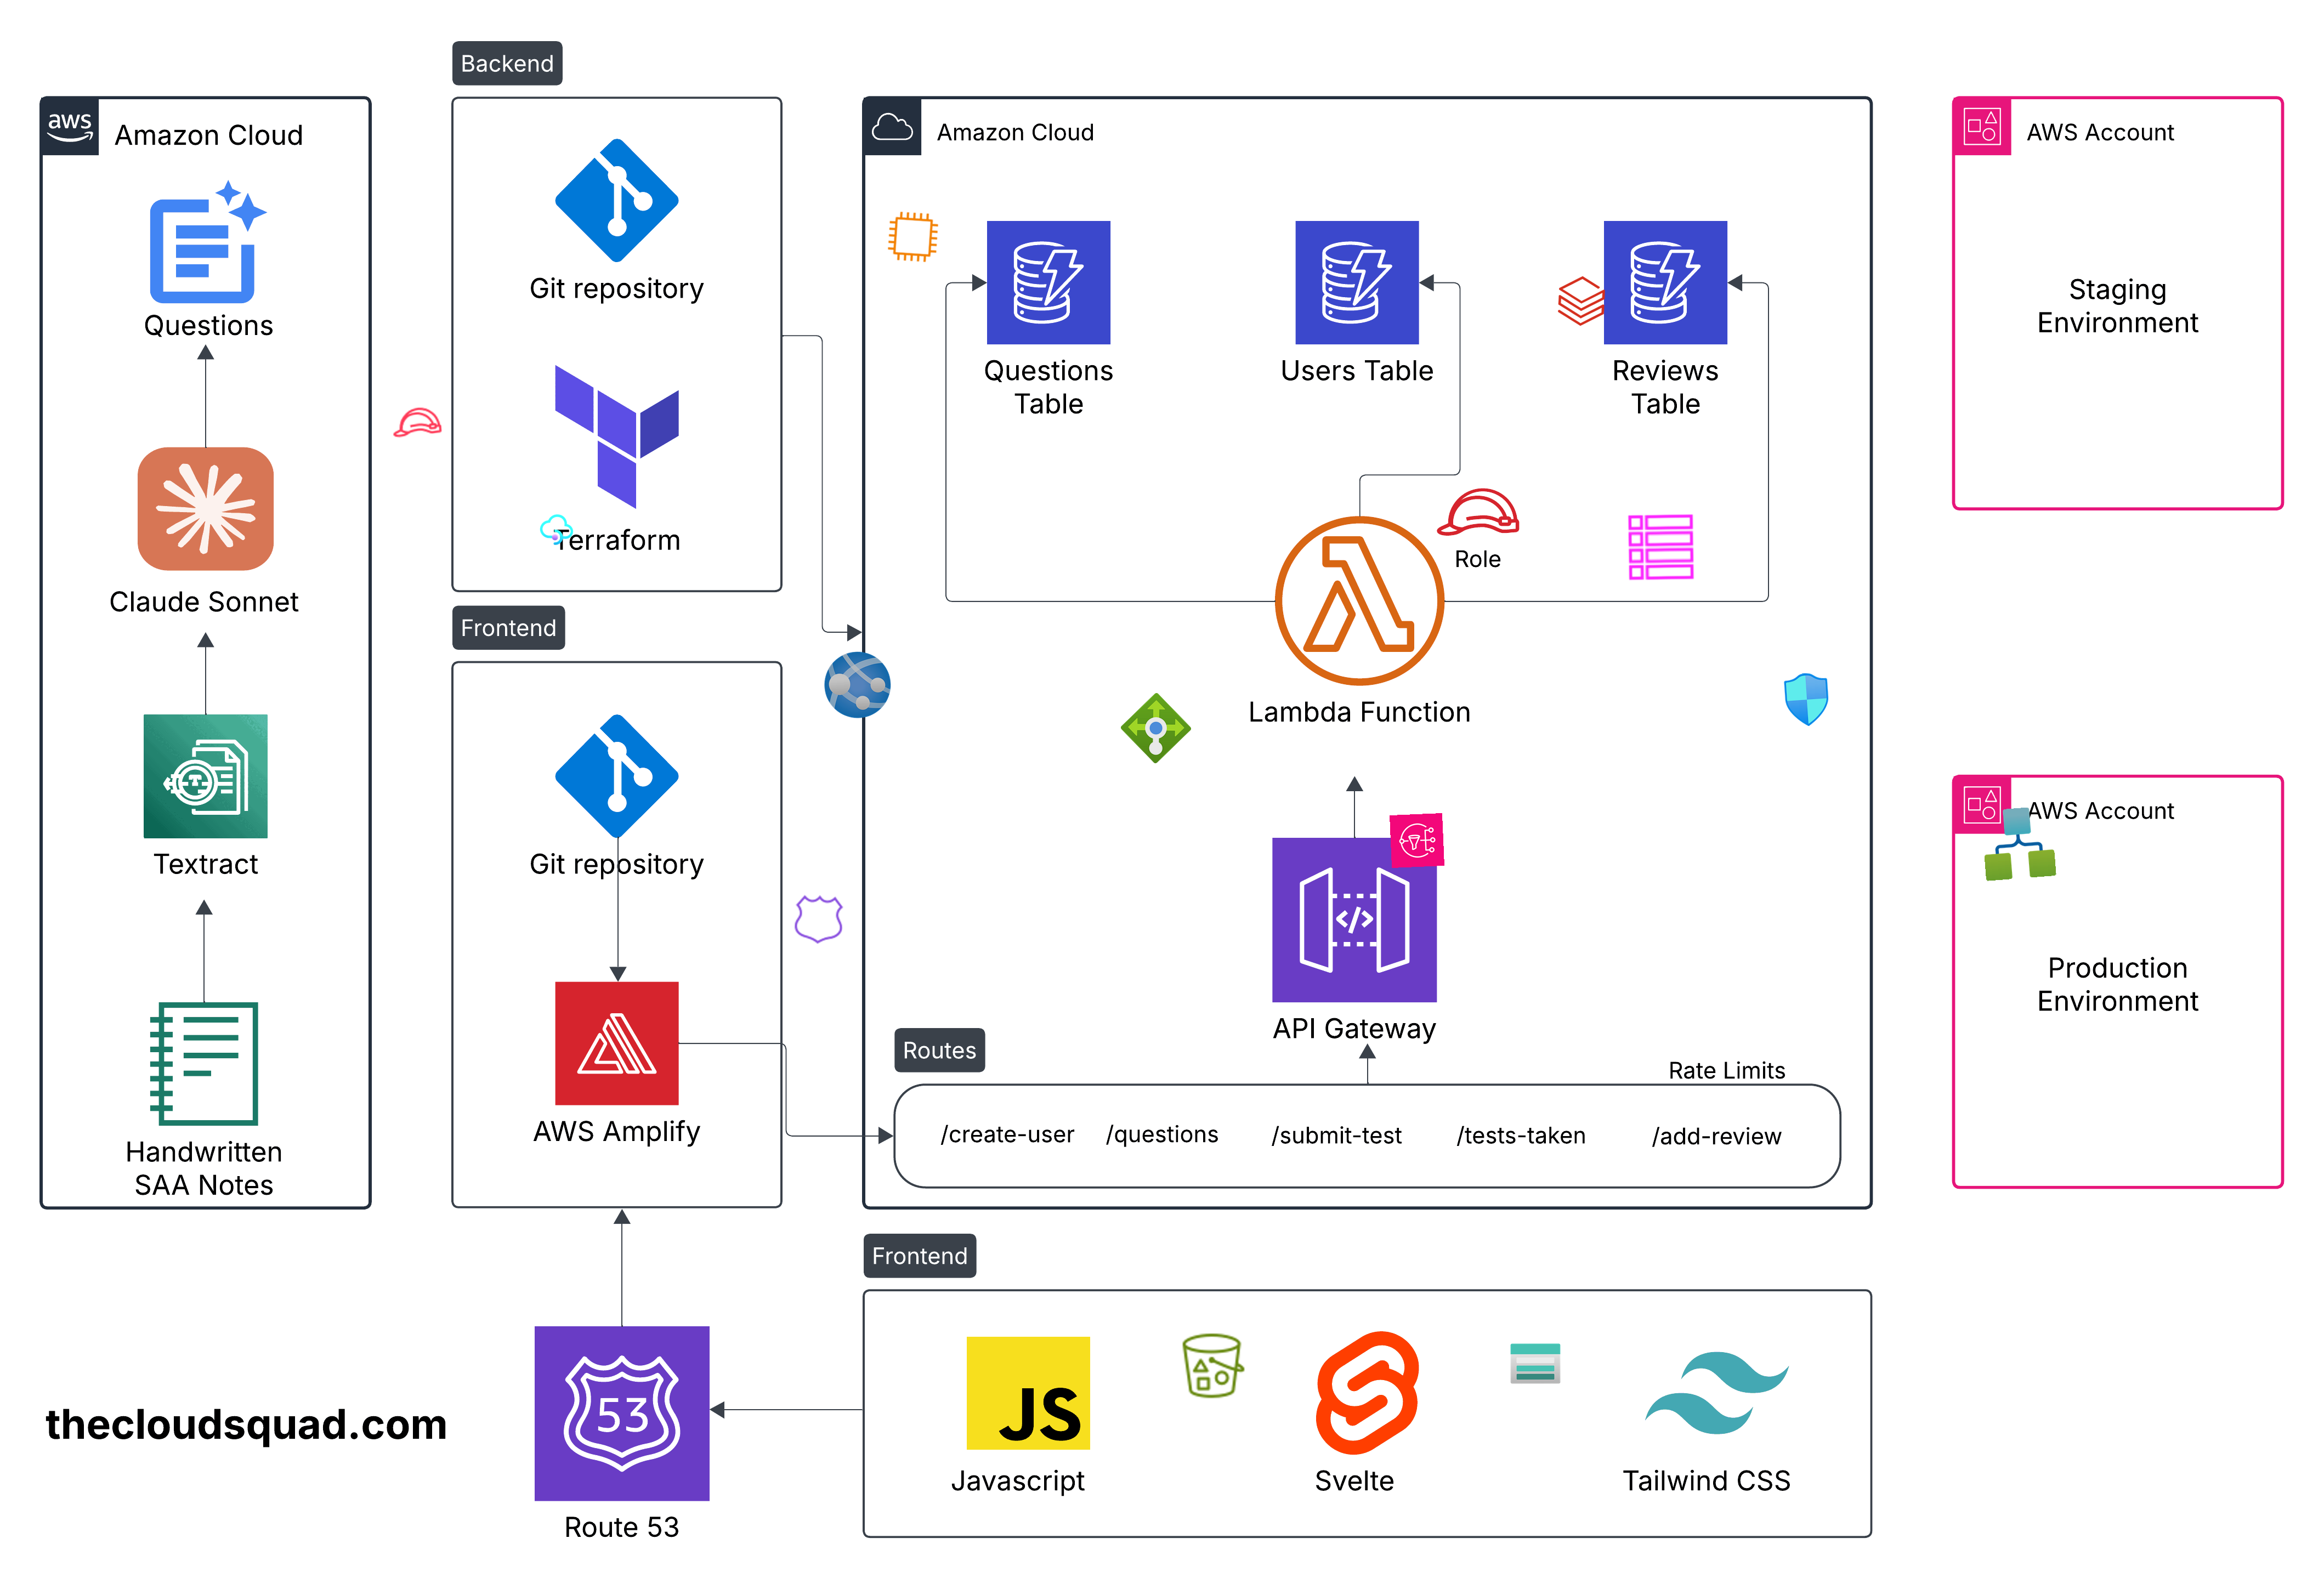aws_amazon_simple_notification_service: (1389, 812, 1445, 868)
aws_dynamodb_table: (1625, 511, 1697, 583)
aws_ec2_instance: (884, 208, 942, 266)
aws_identity_access_management_role: (389, 394, 445, 451)
aws_route_53_hosted_zone: (791, 891, 847, 948)
aws_simple_storage_service_bucket_with_objects: (1178, 1330, 1250, 1402)
azure_api_management_services: (539, 511, 576, 548)
azure_app_services: (820, 648, 894, 722)
azure_databricks: (1553, 273, 1609, 329)
azure_load_balancers: (1120, 692, 1192, 764)
azure_logic_apps: (1981, 805, 2056, 881)
azure_network_security_groups: (1778, 671, 1835, 727)
azure_storage_accounts: (1509, 1337, 1562, 1391)
